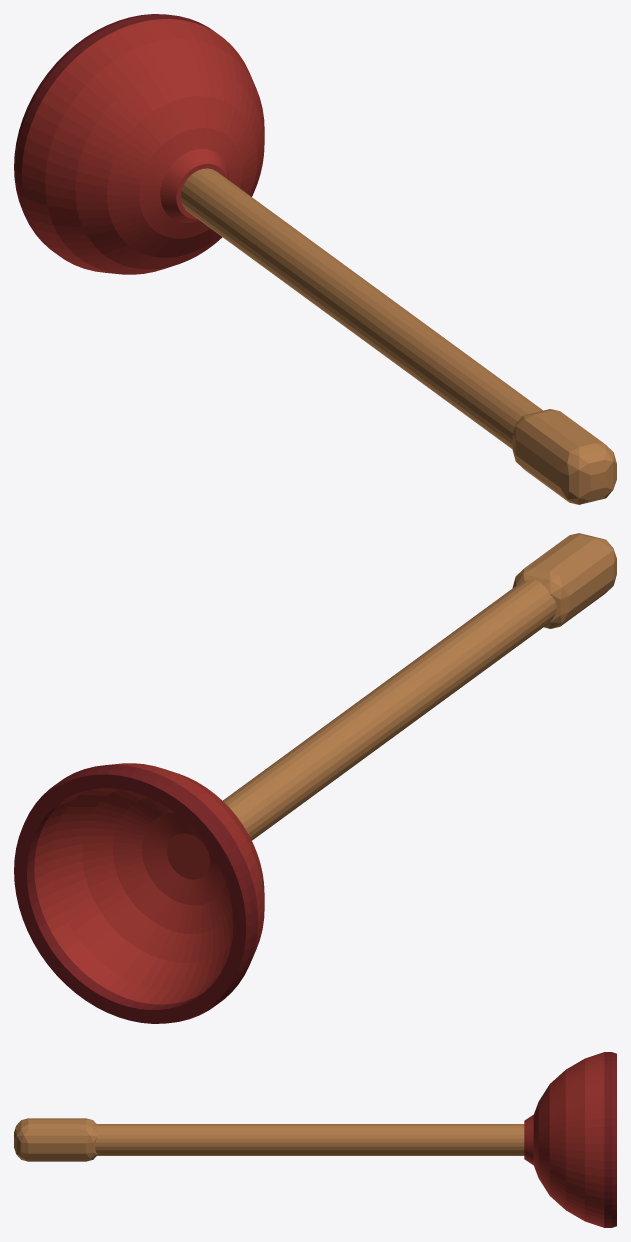
The picture shows the model from 3 angles, top to bottom: view 1: azimuth 30°, elevation 25°; view 2: azimuth 150°, elevation 25°; view 3: azimuth 270°, elevation 25°; orthographic projection. The views are drawn at different scales.
Visible parts, largest first — view 1: geometry_0; view 2: geometry_0; view 3: geometry_0.
Boxes of the visible parts, x1=… form: geometry_0: x1=14, y1=14, x2=616, y2=504; geometry_0: x1=14, y1=533, x2=616, y2=1023; geometry_0: x1=14, y1=1052, x2=616, y2=1227.
Bounding box in the file's own units: 0.11 × 0.11 × 0.377.
Materials: 1 (1 with a texture image).
